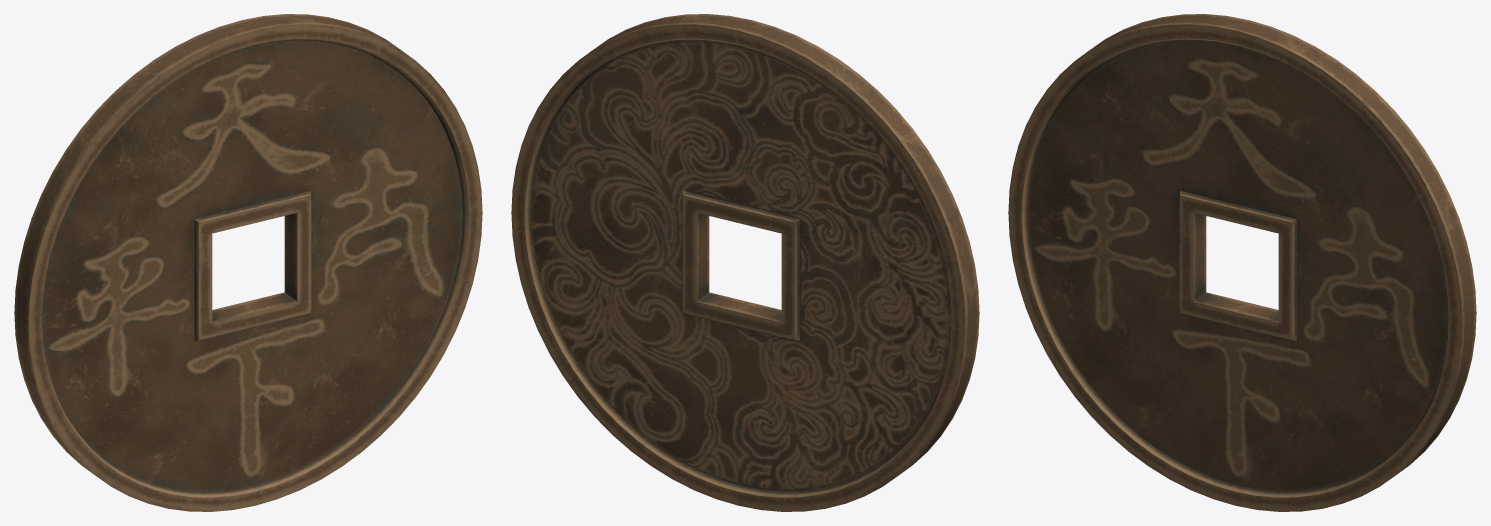
3 views of the same model, side by side, from view 1: azimuth 30°, elevation 25°; view 2: azimuth 150°, elevation 25°; view 3: azimuth 330°, elevation 25° (orthographic).
Visible parts, largest first — view 1: yinbi_01; view 2: yinbi_01; view 3: yinbi_01.
Boxes of the visible parts, x1,y1,x2,y2 form: yinbi_01: (14, 14, 482, 511); yinbi_01: (511, 14, 979, 511); yinbi_01: (1008, 14, 1476, 511).
Size of the model in its own units: 13.64 by 13.64 by 0.7302.
1 material, 1 textured.
